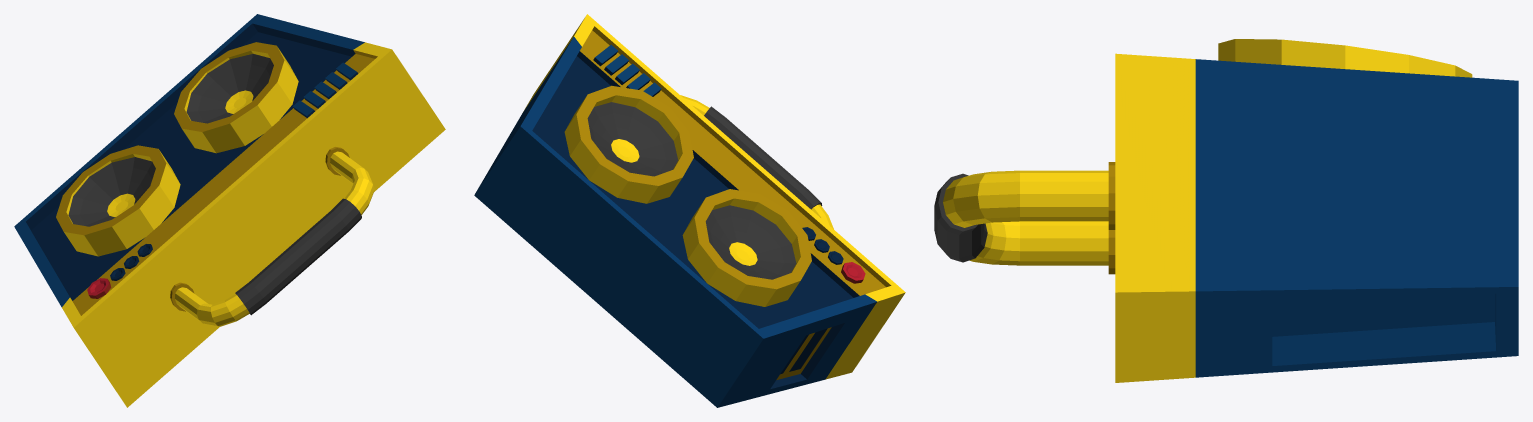
File: caixa_de_som.fbx
3 views of the same model, side by side, from view 1: azimuth 30°, elevation 25°; view 2: azimuth 150°, elevation 25°; view 3: azimuth 270°, elevation 25° (orthographic). The views are drawn at different scales.
Parts seen in each view (by area): view 1: Circle.001; view 2: Circle.001; view 3: Circle.001.
Boxes of the visible parts, x1,y1,x2,y2 form: Circle.001: [14, 14, 445, 407]; Circle.001: [474, 14, 905, 407]; Circle.001: [934, 39, 1518, 382].
Bounding box in the file's own units: 283 × 213 × 192.
